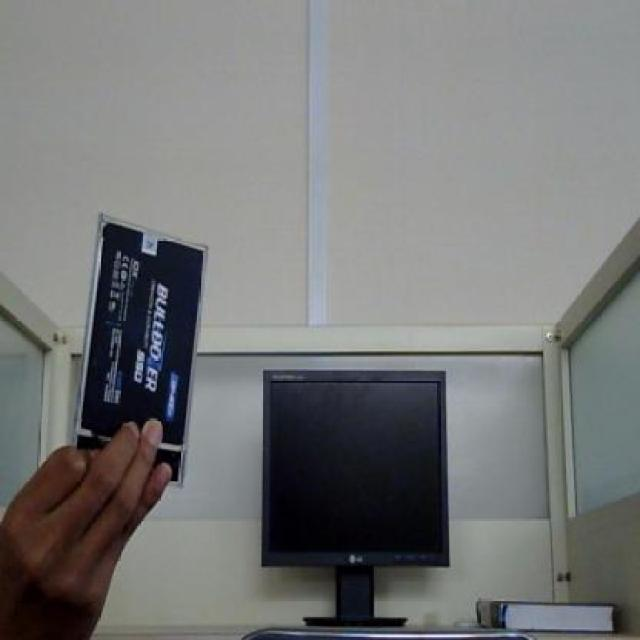Plastic: (77, 211, 211, 437)
